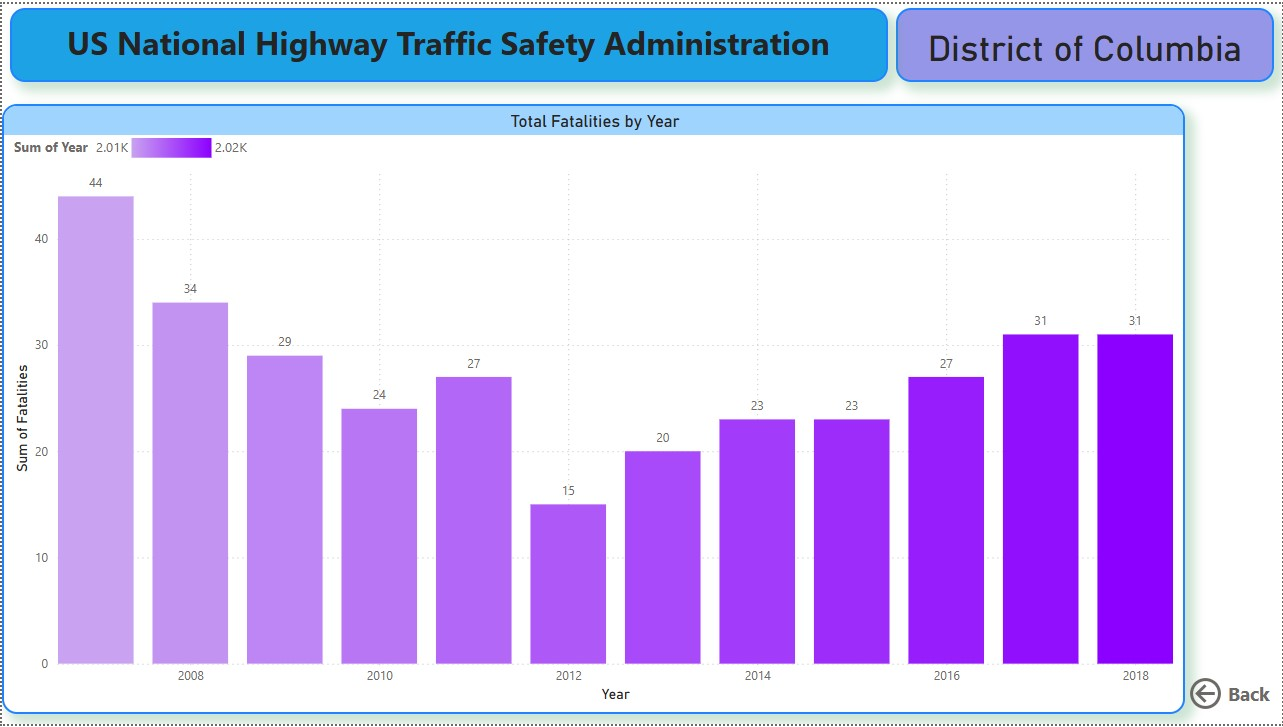

The page's visual inventory and layout, read from the dashboard file:
{"tool":"powerbi","page":{"name":"Fatalities","canvas":[1280,720],"ordinal":1},"visuals":[{"type":"clusteredColumnChart","title":"Total Fatalities by Year","fields":{"Category":["PA - Driving Safety.Year"],"Y":["Sum(PA - Driving Safety.Fatalities)"]},"box":[0,99.8,1183.2,609.8],"z":0},{"type":"actionButton","title":"Back","box":[1183.2,669.2,88.7,40.3],"z":1000},{"type":"card","title":"Selected US State","fields":{"Values":["Min(PA - Driving Safety.State)"]},"box":[894,4,378,73.6],"z":2000},{"type":"textbox","box":[8.1,4,877.9,73.6],"z":3000}]}

Visuals, with their boxes in screenshot pixels (x1, y1, x2, y2), scaled from the page's 1280x720 canvas onto the 1283x727 screenshot:
"Total Fatalities by Year" clusteredColumnChart: <bbox>0, 101, 1186, 716</bbox>
"Back" actionButton: <bbox>1186, 676, 1275, 716</bbox>
"Selected US State" card: <bbox>896, 4, 1275, 78</bbox>
textbox: <bbox>8, 4, 888, 78</bbox>
